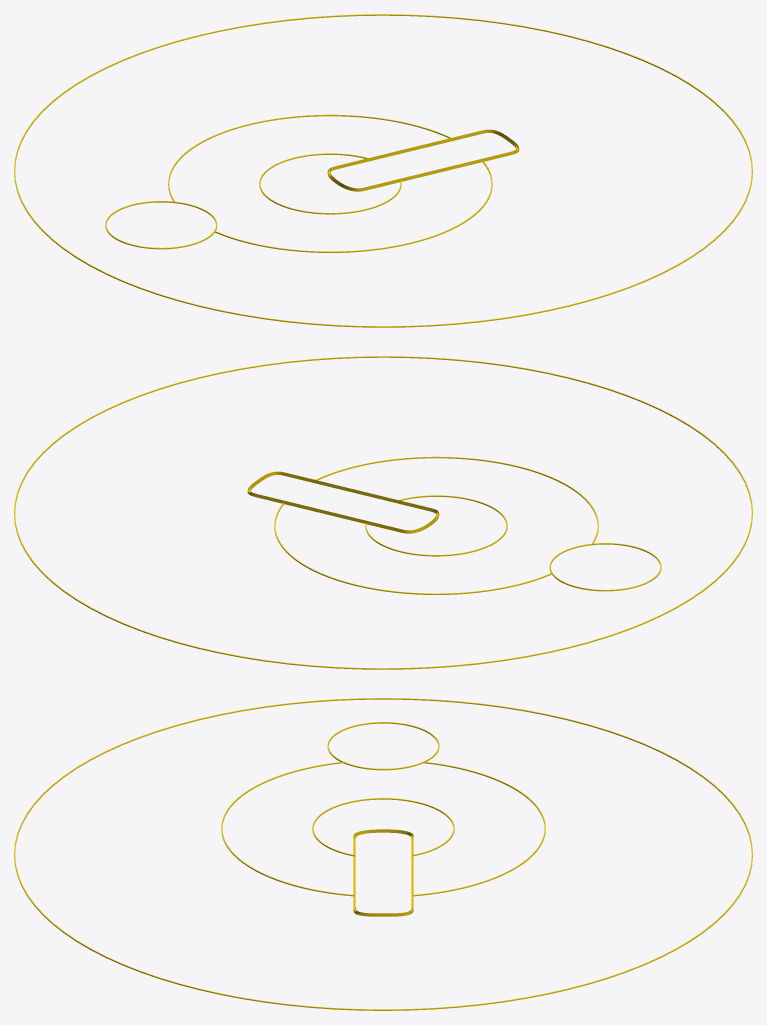
The model's file is CD_JZ_vr_ceiling_emi01.FBX.
The picture shows the model from 3 angles, top to bottom: view 1: azimuth 30°, elevation 25°; view 2: azimuth 150°, elevation 25°; view 3: azimuth 270°, elevation 25°; orthographic projection.
Parts seen in each view (by area): view 1: CD_JZ_vr_ceiling_emi01; view 2: CD_JZ_vr_ceiling_emi01; view 3: CD_JZ_vr_ceiling_emi01.
Part boxes in pixels (left/top/right/bottom): CD_JZ_vr_ceiling_emi01: left=14, top=14, right=752, bottom=327; CD_JZ_vr_ceiling_emi01: left=14, top=356, right=752, bottom=669; CD_JZ_vr_ceiling_emi01: left=14, top=698, right=752, bottom=1010.
Size of the model in its own units: 3659 by 12.41 by 3664.
